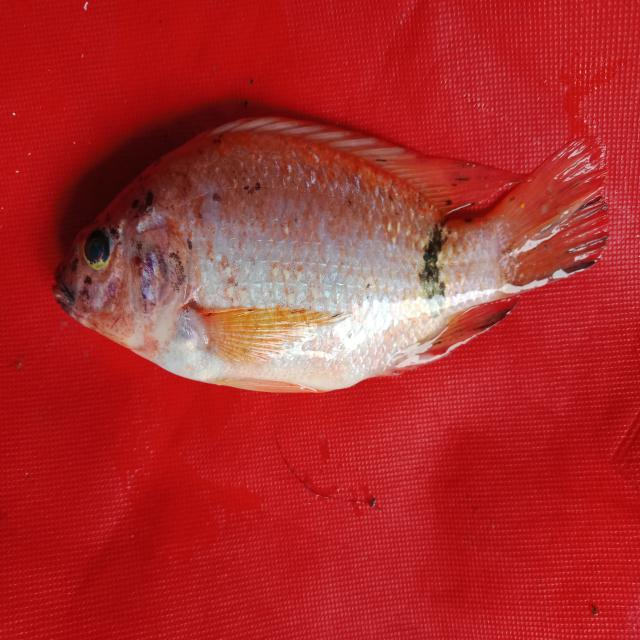ikan: (42, 93, 618, 410)
